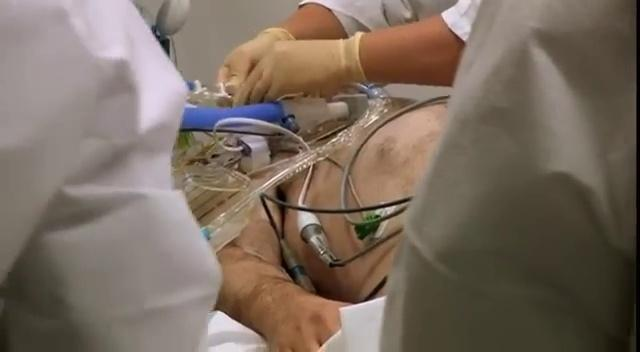patient: (150, 30, 468, 339)
